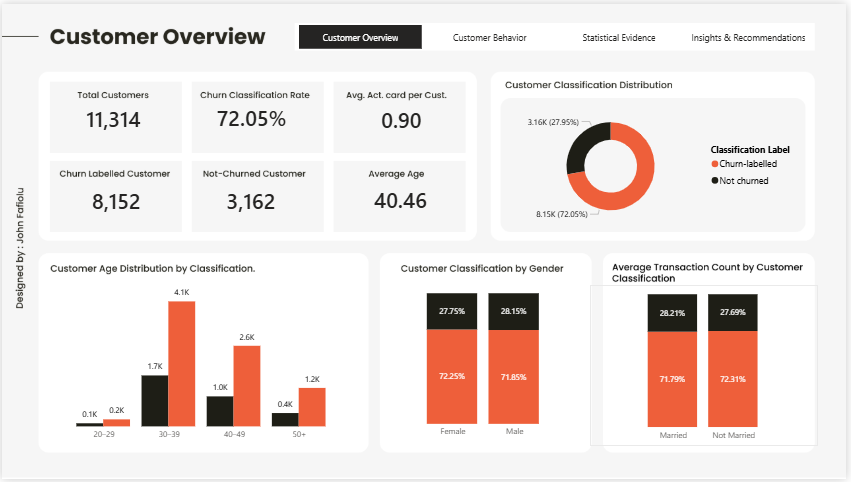

The dashboard page shown, as its layout file describes it:
{"tool":"powerbi","page":{"name":"Customer Overview","canvas":[1280,720],"ordinal":0},"visuals":[{"type":"cardVisual","fields":{"Data":["fintech_customer_churn_cleaned.Total Customers"]},"box":[79.4,123.3,180,97.8],"z":0},{"type":"cardVisual","fields":{"Data":["fintech_customer_churn_cleaned.Churn-Labelled Customers"]},"box":[79.4,252.3,189.9,86.5],"z":1000},{"type":"cardVisual","fields":{"Data":["fintech_customer_churn_cleaned.Churn Classification Rate"]},"box":[286.3,117.6,184.3,104.9],"z":2000},{"type":"cardVisual","fields":{"Data":["fintech_customer_churn_cleaned.Not-Churned Customers"]},"box":[280.6,243.8,194.2,103.5],"z":3000},{"type":"cardVisual","fields":{"Data":["fintech_customer_churn_cleaned.Average Active Cards per Customer"]},"box":[510.2,117.6,189.9,109.1],"z":4000},{"type":"cardVisual","fields":{"Data":["fintech_customer_churn_cleaned.Average Age"]},"box":[520.2,232.4,168.7,127.6],"z":5000},{"type":"donutChart","fields":{"Y":["CountNonNull(fintech_customer_churn_cleaned.CIF)"],"Category":["fintech_customer_churn_cleaned.Classification Label"]},"box":[765.4,153.1,447.9,185.7],"z":6000},{"type":"clusteredColumnChart","title":"Customer Age Distribution by Classification.","fields":{"Category":["fintech_customer_churn_cleaned.Age Band"],"Y":["CountNonNull(fintech_customer_churn_cleaned.CIF)"],"Series":["fintech_customer_churn_cleaned.Churn"]},"box":[68,411,469.1,259.4],"z":7000},{"type":"hundredPercentStackedColumnChart","title":"Customer Classification by Gender","fields":{"Category":["fintech_customer_churn_cleaned.CustSex"],"Y":["CountNonNull(fintech_customer_churn_cleaned.CIF)"],"Series":["fintech_customer_churn_cleaned.Classification Label"]},"box":[554.3,425,351.1,241.9],"z":8000},{"type":"hundredPercentStackedColumnChart","fields":{"Category":["fintech_customer_churn_cleaned.CustMaritalStatus"],"Series":["fintech_customer_churn_cleaned.Classification Label"],"Y":["CountNonNull(fintech_customer_churn_cleaned.CIF)"]},"box":[891.5,425.2,344.4,245.2],"z":9000},{"type":"pageNavigator","box":[449.3,31.2,776.7,36.9],"z":10000}]}

Visuals, with their boxes in screenshot pixels (x1, y1, x2, y2), scaled from the page's 1280x720 canvas onto the 851x482 screenshot:
cardVisual - fintech_customer_churn_cleaned.Total Customers: locate(53, 83, 172, 148)
cardVisual - fintech_customer_churn_cleaned.Churn-Labelled Customers: locate(53, 169, 179, 227)
cardVisual - fintech_customer_churn_cleaned.Churn Classification Rate: locate(190, 79, 313, 149)
cardVisual - fintech_customer_churn_cleaned.Not-Churned Customers: locate(187, 163, 316, 232)
cardVisual - fintech_customer_churn_cleaned.Average Active Cards per Customer: locate(339, 79, 465, 152)
cardVisual - fintech_customer_churn_cleaned.Average Age: locate(346, 156, 458, 241)
donutChart - CountNonNull(fintech_customer_churn_cleaned.CIF) x fintech_customer_churn_cleaned.Classification Label: locate(509, 102, 807, 227)
"Customer Age Distribution by Classification." clusteredColumnChart: locate(45, 275, 357, 449)
"Customer Classification by Gender" hundredPercentStackedColumnChart: locate(369, 285, 602, 446)
hundredPercentStackedColumnChart - fintech_customer_churn_cleaned.CustMaritalStatus x fintech_customer_churn_cleaned.Classification Label: locate(593, 285, 822, 449)
pageNavigator: locate(299, 21, 815, 46)
